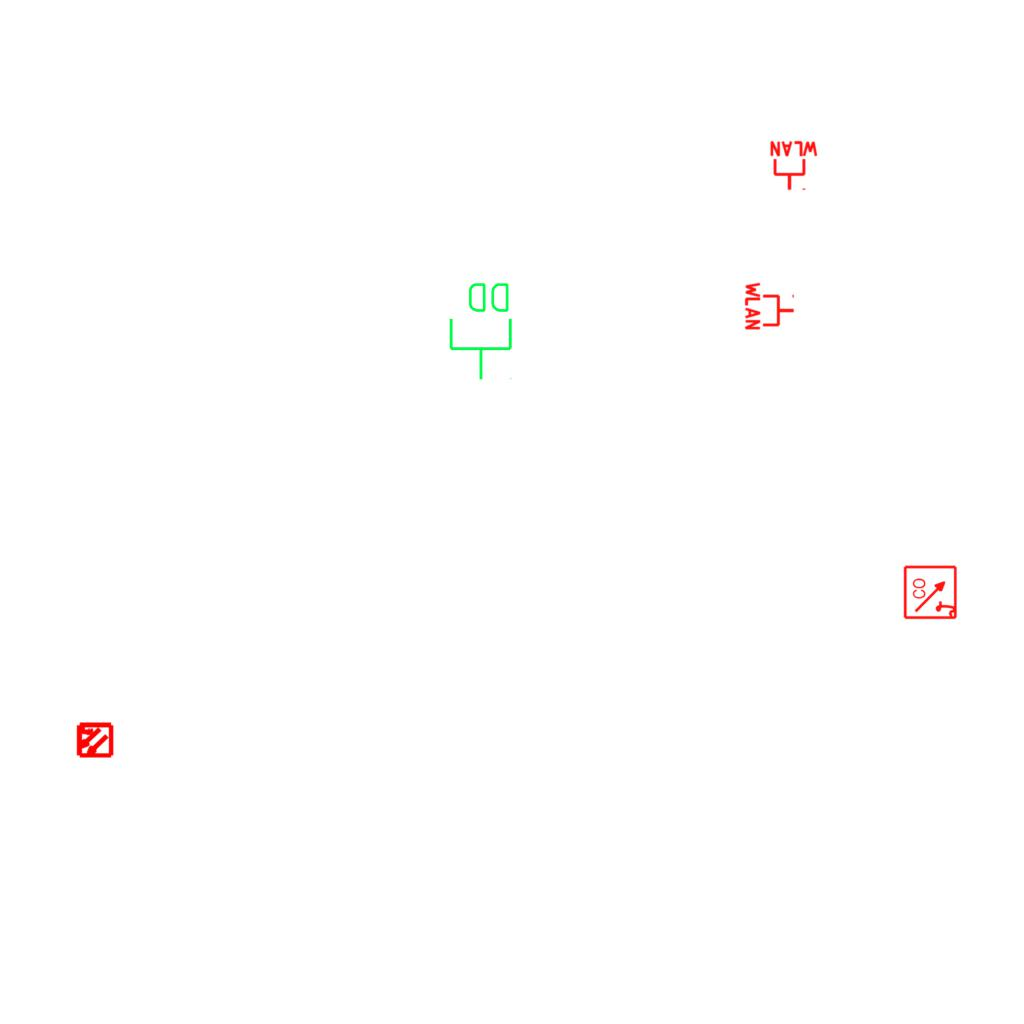Datenanschluss_zweifach: (447, 279, 516, 382)
OT_Multisensormelder_(Kombination_RMO_WMD): (66, 712, 122, 768)
ROA_Rauchmelder_optisch_mit_Signalgeber_(Sockelsirene): (903, 564, 959, 620)
WLAN: (744, 280, 796, 332), (768, 140, 820, 192)
